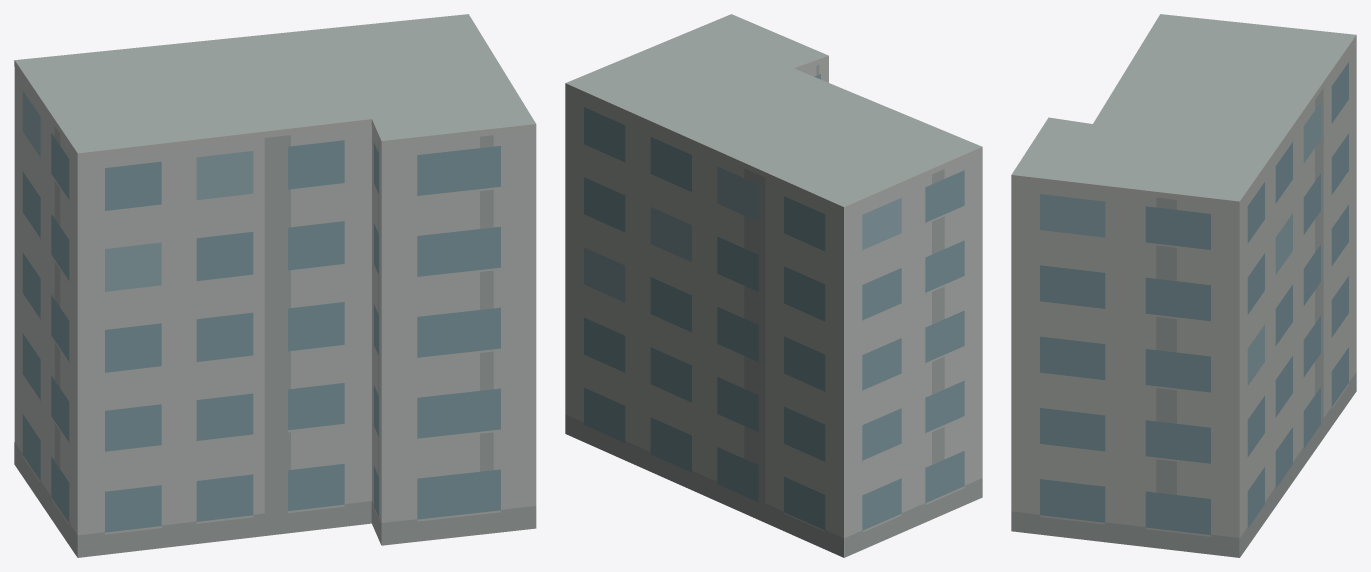
The model's file is survey-upis-32504882.glb.
The picture shows the model from 3 angles, left to right: view 1: azimuth 30°, elevation 25°; view 2: azimuth 150°, elevation 25°; view 3: azimuth 270°, elevation 25°; orthographic projection. The views are drawn at different scales.
Visible parts, largest first — view 1: survey-upis-32504882.tmp; view 2: survey-upis-32504882.tmp; view 3: survey-upis-32504882.tmp.
Part boxes in pixels (x1,y1,x2,y2): survey-upis-32504882.tmp: [14, 14, 536, 557]; survey-upis-32504882.tmp: [565, 14, 982, 557]; survey-upis-32504882.tmp: [1011, 14, 1356, 557].
Size of the model in its own units: 17.22 by 15.25 by 13.4.
